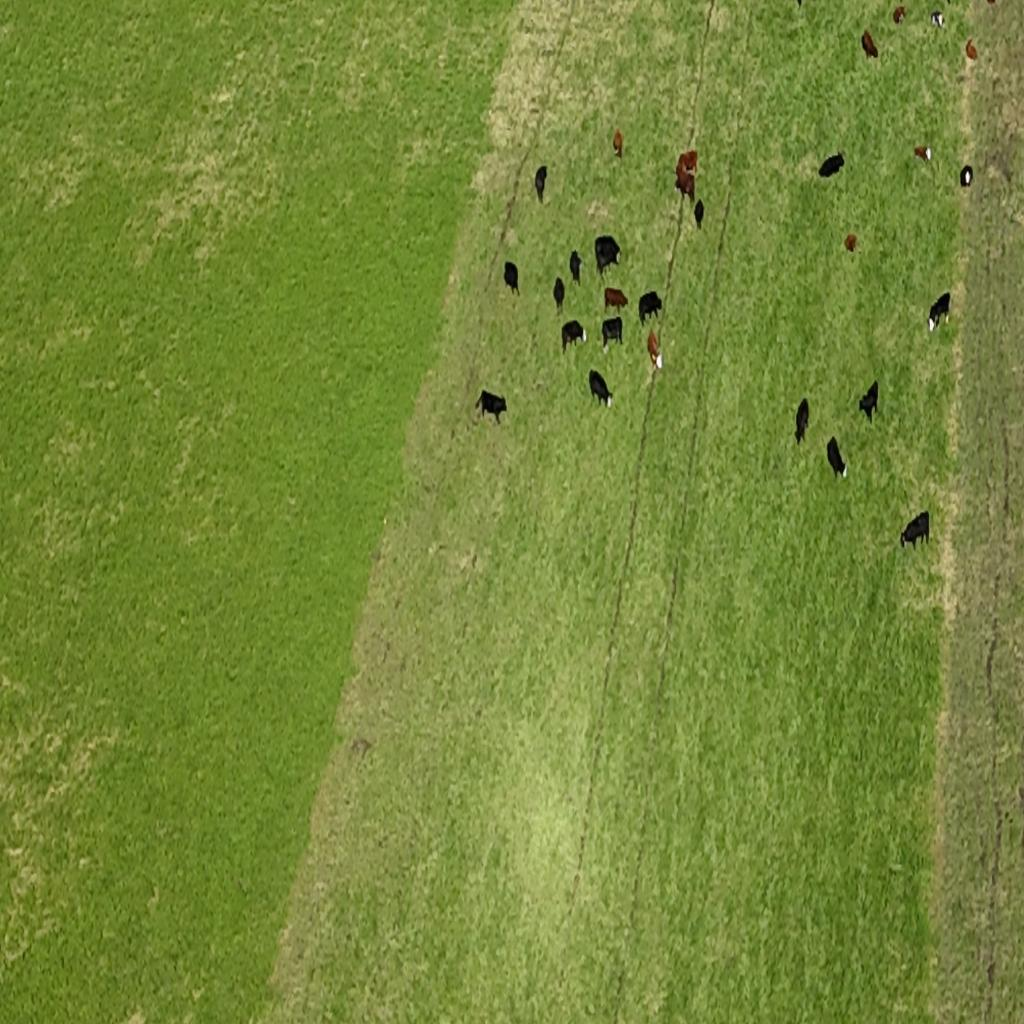cow: (473, 386, 507, 426), (900, 509, 930, 550), (927, 292, 951, 333), (589, 368, 613, 408), (826, 436, 847, 480), (561, 320, 586, 353), (638, 290, 661, 325), (601, 317, 623, 352), (819, 151, 846, 178), (796, 397, 810, 444), (604, 287, 628, 314), (859, 391, 877, 423), (597, 249, 620, 274), (503, 261, 519, 296), (862, 29, 879, 59), (674, 177, 694, 202), (534, 165, 547, 203), (594, 235, 620, 252), (553, 276, 565, 312), (570, 250, 582, 286), (679, 148, 698, 170), (914, 145, 932, 164), (694, 198, 704, 230), (613, 129, 623, 159), (960, 165, 973, 188), (931, 10, 945, 29), (966, 39, 978, 61), (648, 330, 658, 356), (893, 5, 906, 24), (845, 234, 857, 252)
